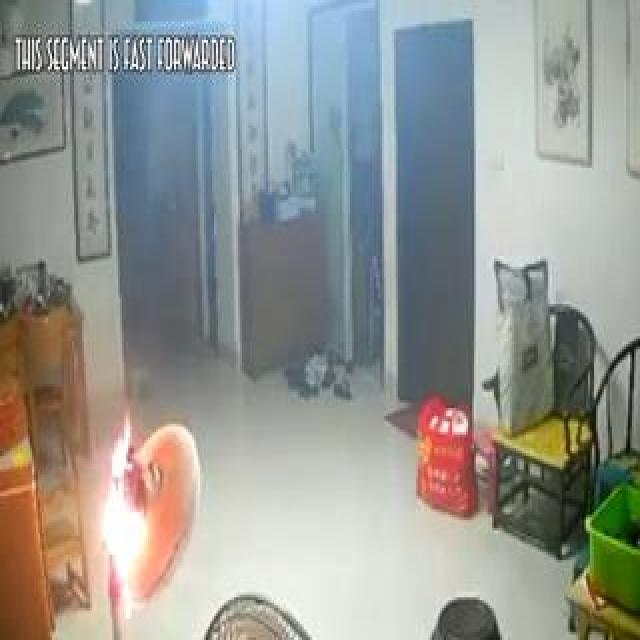Fire: (101, 362, 173, 634)
